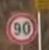limite 90: (5, 12, 37, 44)
